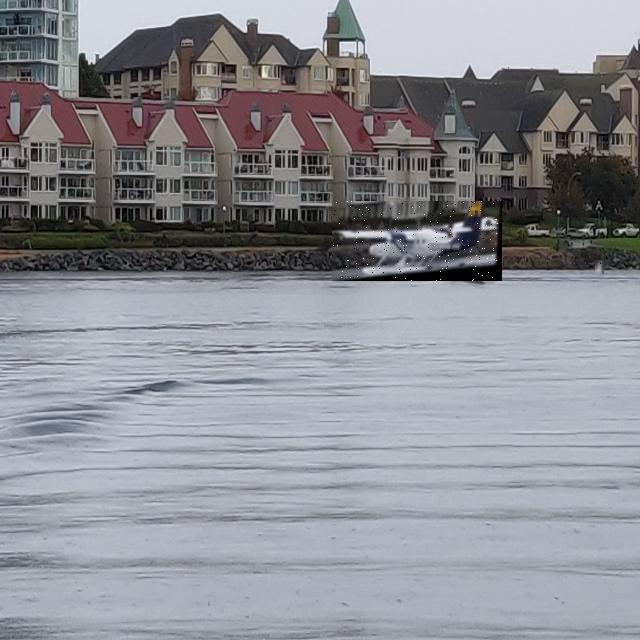aircraft: (332, 201, 502, 281)
mark: (595, 260, 604, 274)
